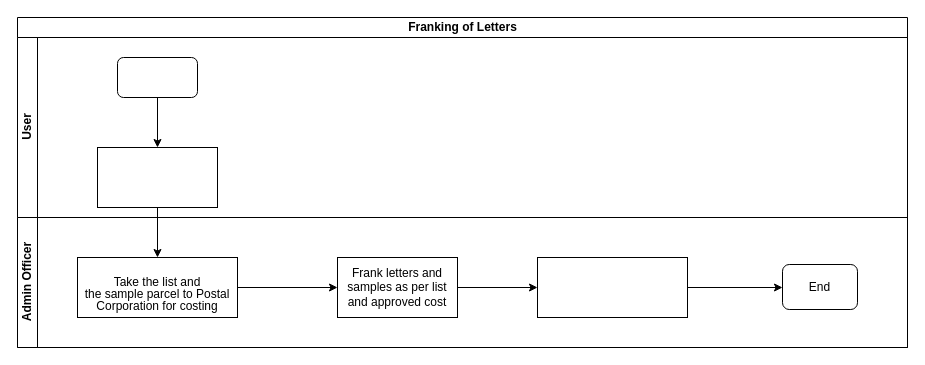
Image size: 925x365. Some labels were removed from this diagram. The centre of each missing label's shape, as x and y in pixels:
"Dispatch the franked letters to the Postal Corporation for dispatch" belongs at point (612, 287).
"List of letters is drawn by the user and forwarded to admin office" belongs at point (157, 177).
"Start" belongs at point (157, 77).
